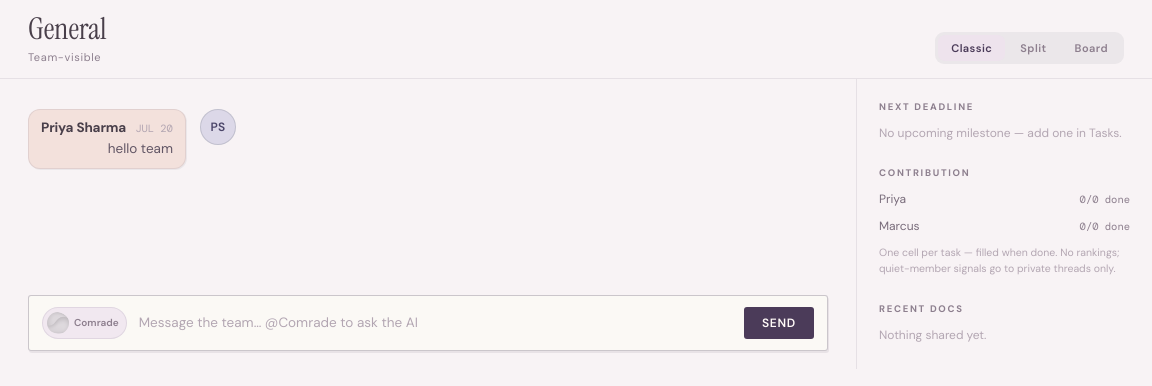
an action that did not work › a refused delete says so instead of looking like a missed click
Hover over the text "hello team".
mouse_move(132, 139)  # box left=28, top=109, right=236, bottom=169
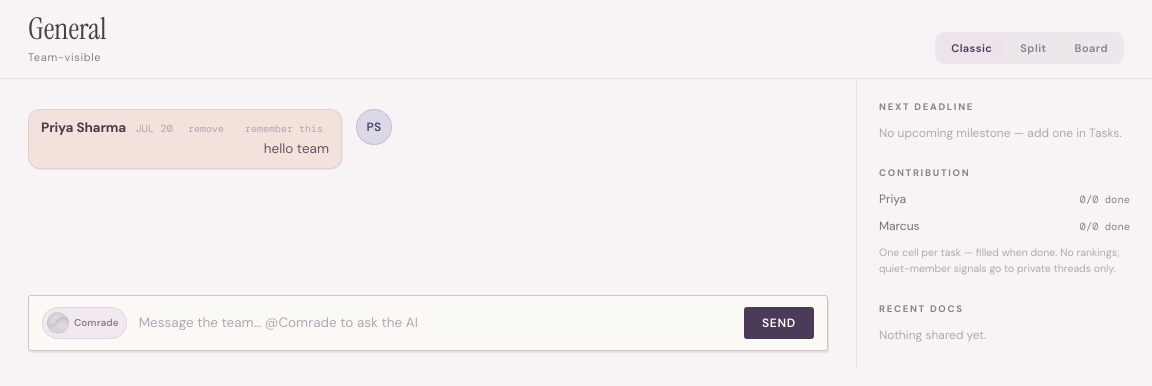
Click the button titled "Remove for everyone".
click(206, 128)  # box left=182, top=121, right=230, bottom=136
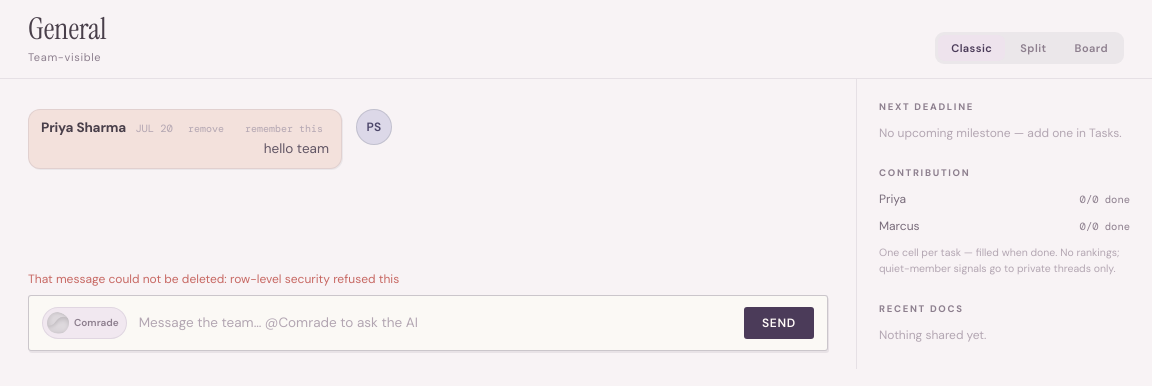
expect the text "could not be deleted" is shown: met, box left=28, top=270, right=399, bottom=286
